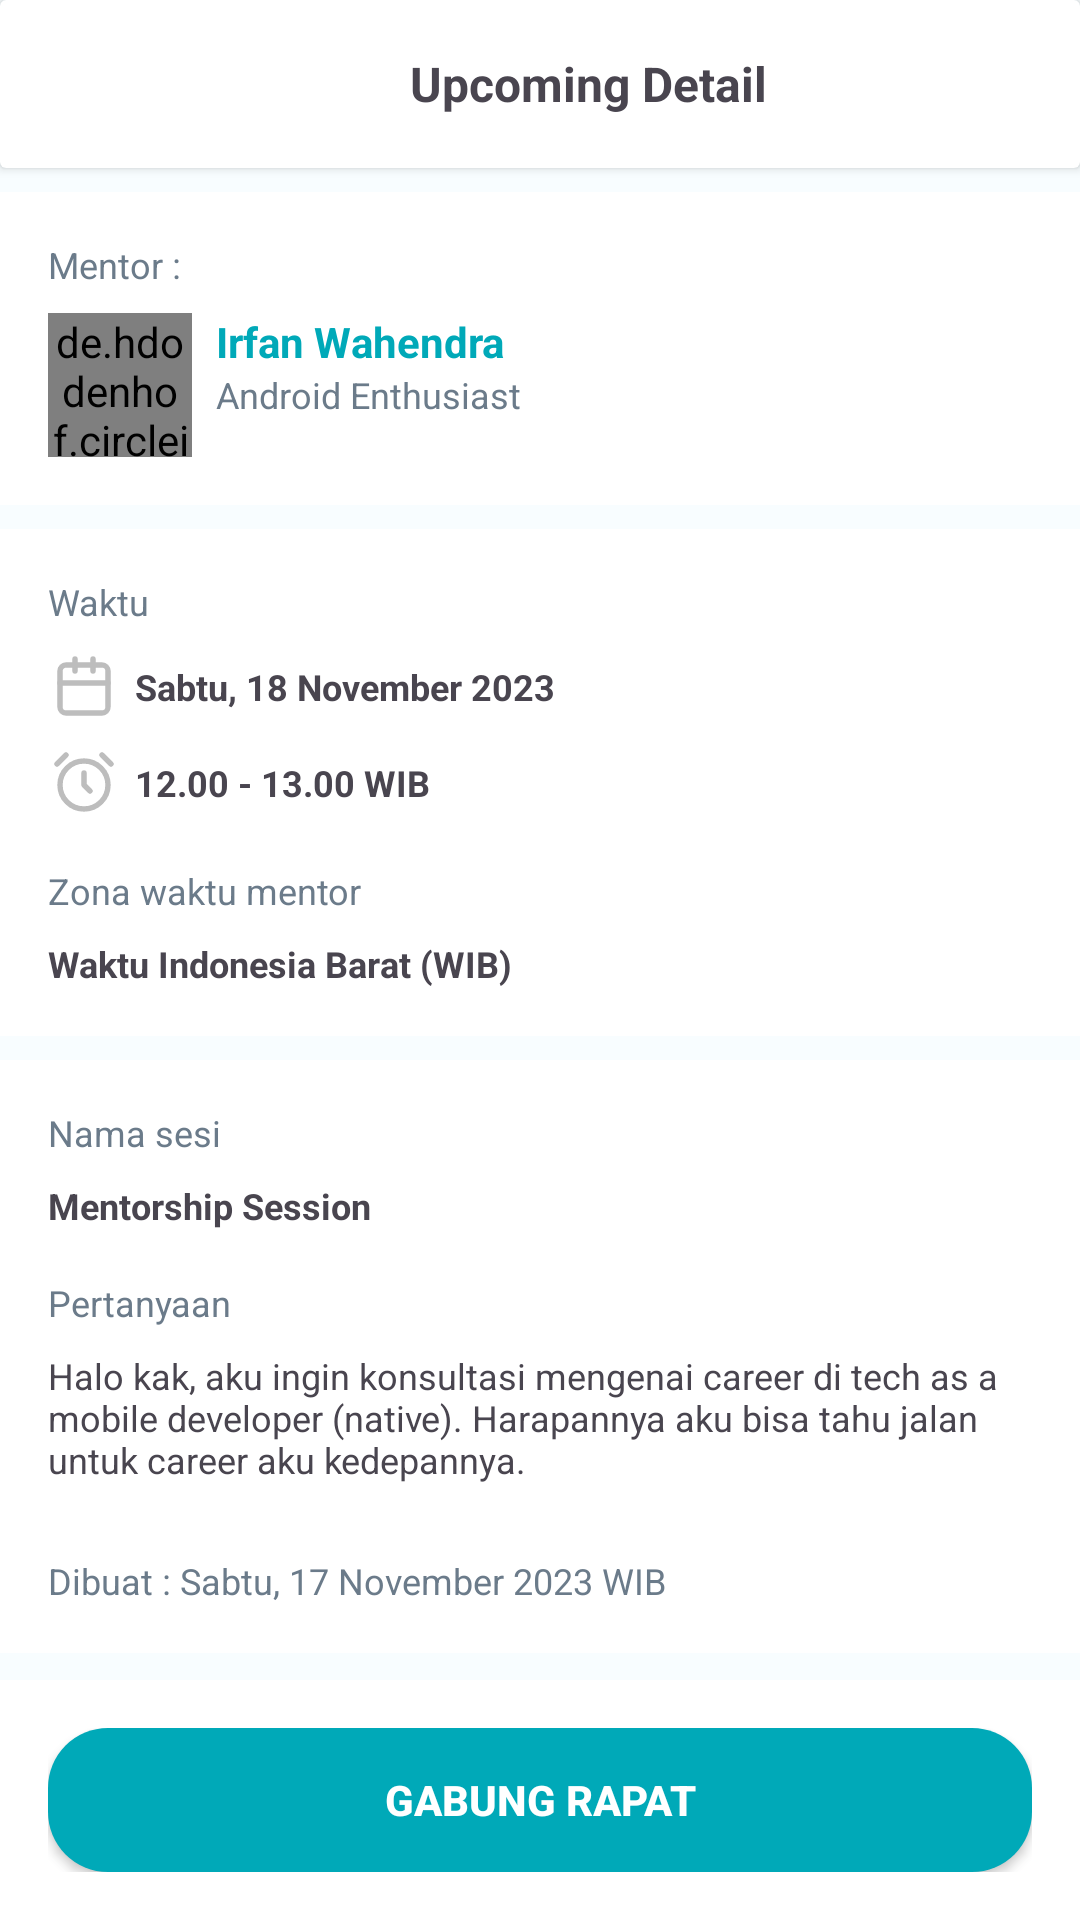

Screen size 1080 × 1920. Icon name, then its center in pixels as (x=x, y=y):
clock: (x=84, y=782)
date: (x=84, y=686)
